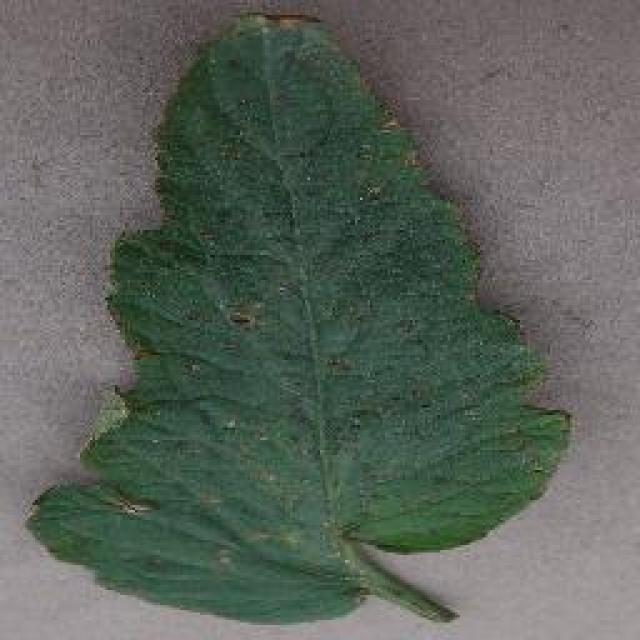Tomato___Bacterial_spot: (25, 13, 572, 631)
